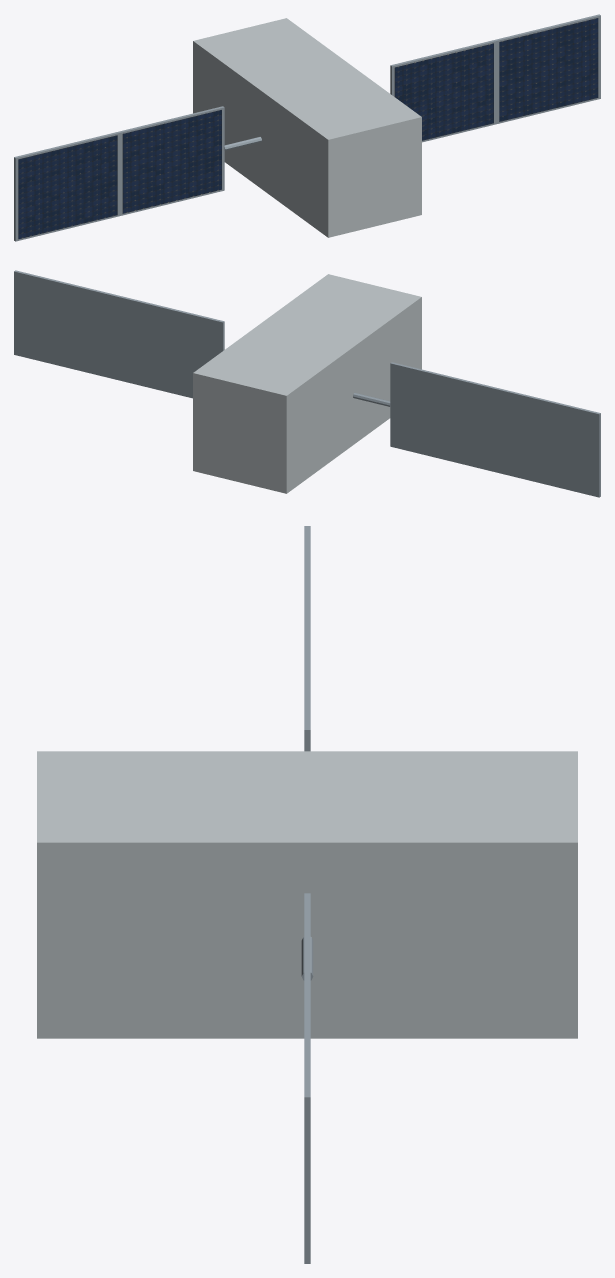
Rendered from ref-mavericks-57756.glb.
3 views of the same model, one above another, from view 1: azimuth 30°, elevation 25°; view 2: azimuth 150°, elevation 25°; view 3: azimuth 270°, elevation 25° (orthographic). The views are drawn at different scales.
Parts seen in each view (by area): view 1: Spacecraft body, Photovoltaic laminates (×4), Array frame (×4); view 2: Array frame (×4), Spacecraft body; view 3: Spacecraft body, Array frame.
Boxes of the visible parts, x1=… form: Spacecraft body: x1=193, y1=18, x2=421, y2=237; Photovoltaic laminates (×4): x1=18, y1=18, x2=598, y2=239; Array frame (×4): x1=14, y1=14, x2=600, y2=241; Array frame (×4): x1=14, y1=270, x2=600, y2=497; Spacecraft body: x1=193, y1=274, x2=421, y2=493; Spacecraft body: x1=37, y1=751, x2=577, y2=1038; Array frame: x1=304, y1=995, x2=310, y2=1263.
Bounding box in the file's own units: 2.5 × 0.4 × 1.
Materials: 3 (1 with a texture image).
